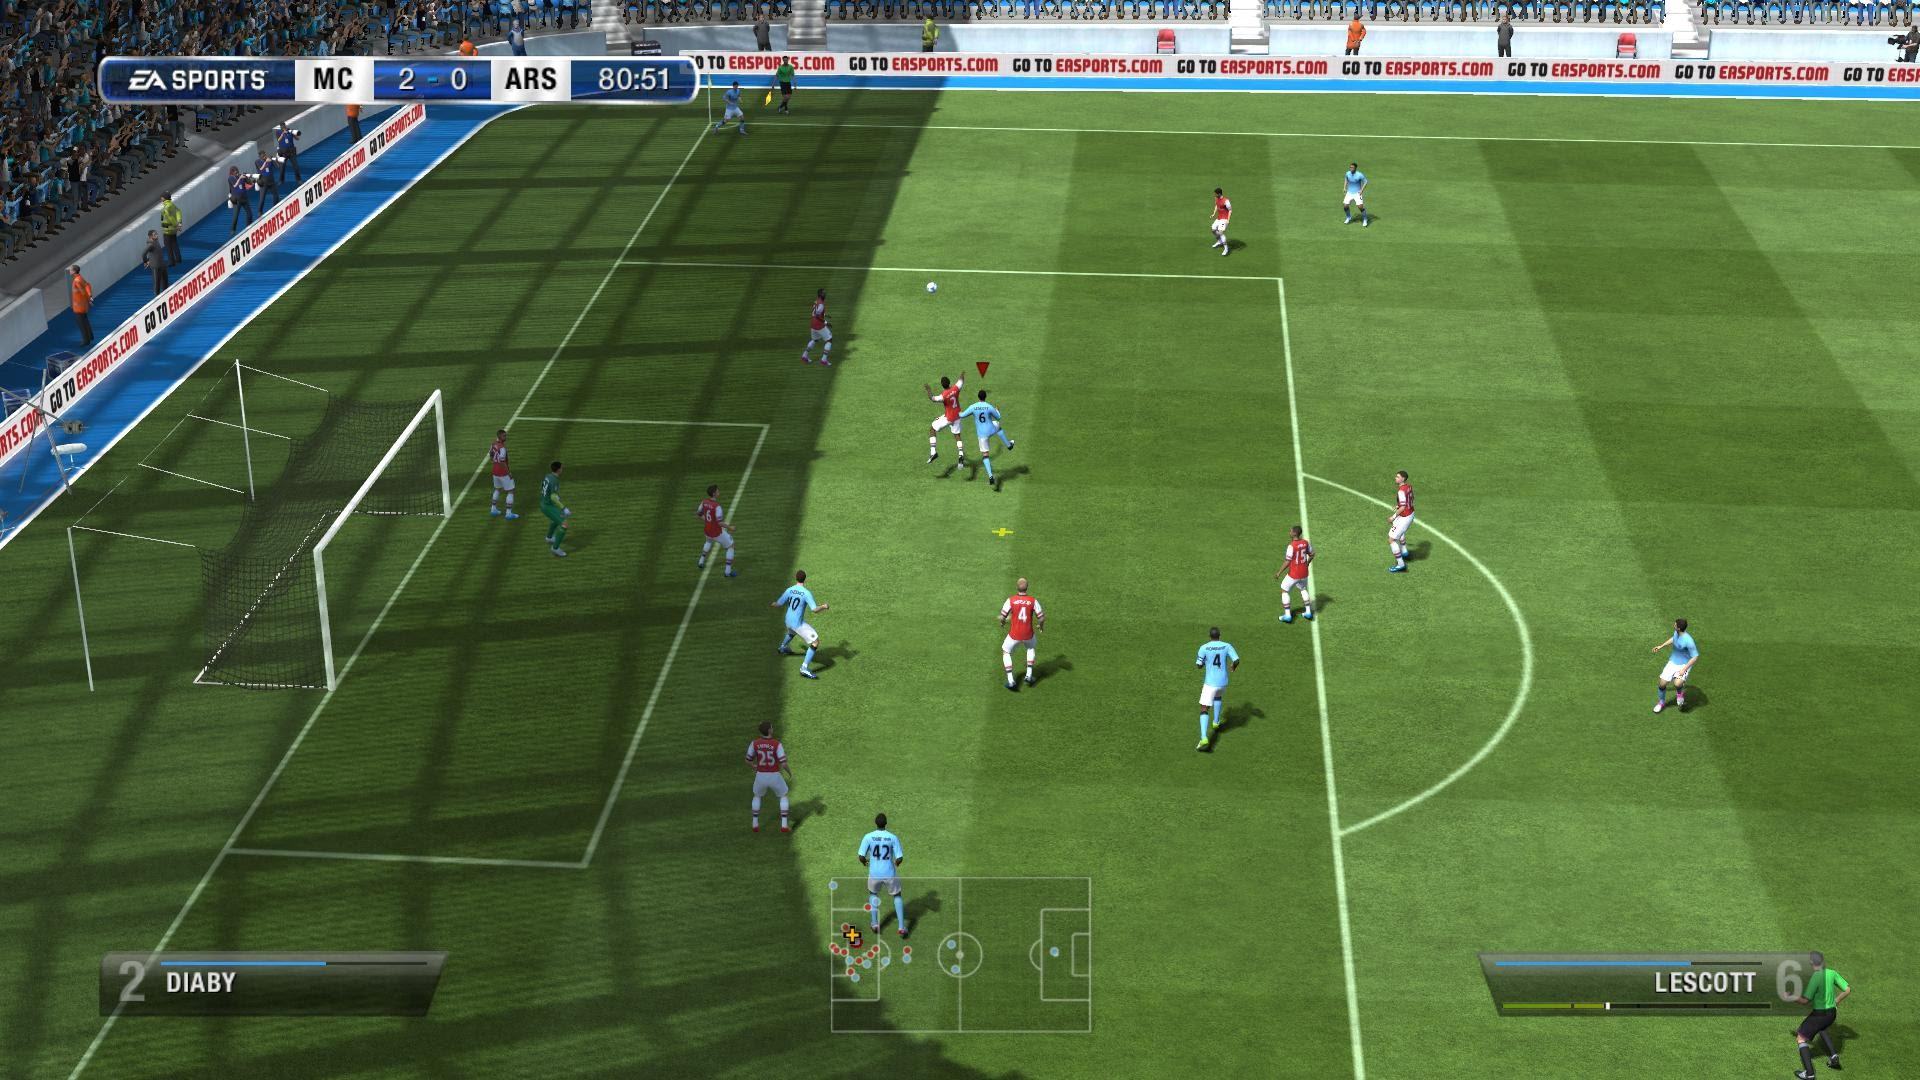ball: (919, 271, 945, 297)
goal: (89, 380, 450, 685)
player: (858, 811, 908, 940), (998, 575, 1048, 693), (745, 724, 793, 836), (1653, 616, 1704, 716), (1277, 521, 1324, 625), (689, 480, 741, 572), (1195, 622, 1232, 748), (782, 571, 824, 677), (487, 422, 521, 526), (1383, 470, 1416, 575), (802, 283, 839, 372), (1202, 188, 1243, 257), (1337, 163, 1375, 227), (541, 455, 567, 546), (726, 79, 750, 140)
